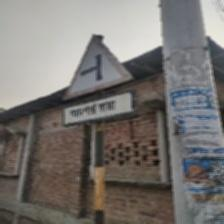Side-road-left: (61, 34, 137, 128)
